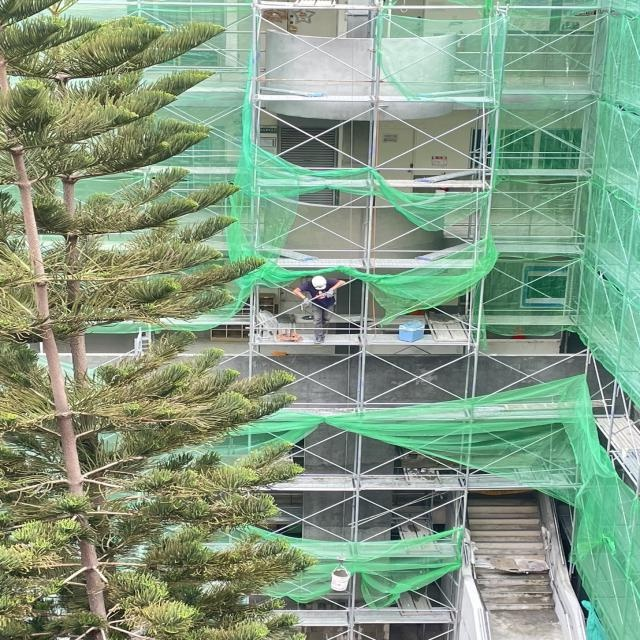Con_Casco: (311, 275, 328, 290)
